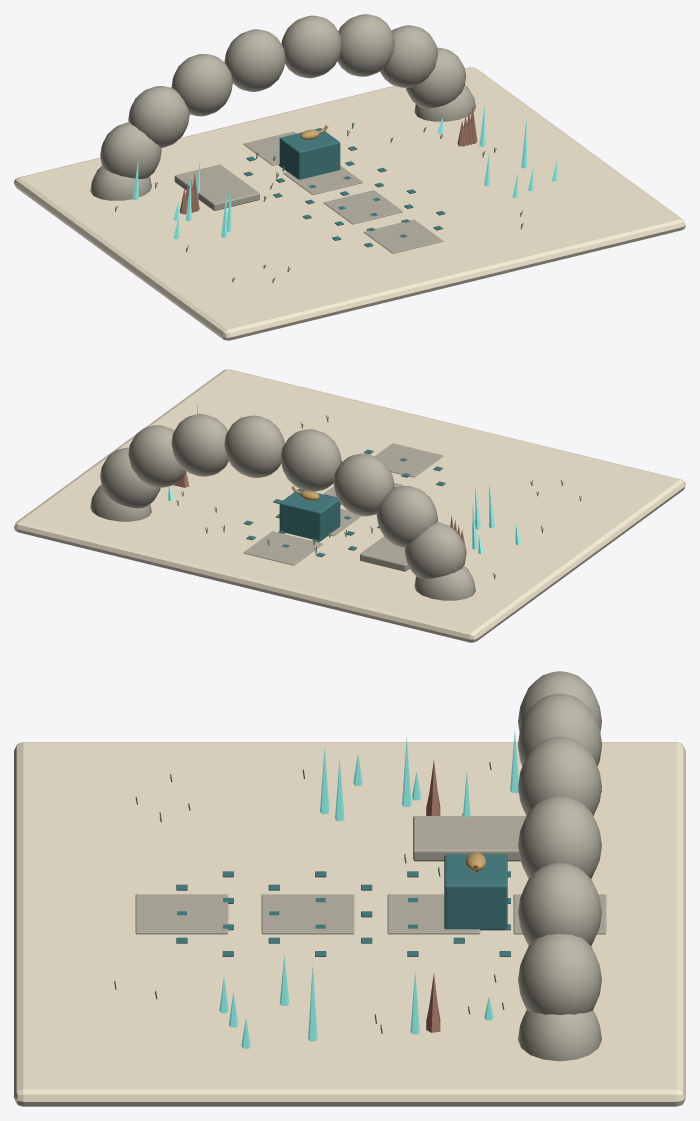
Rendered from ala_cave-BPJZ-EPG.glb.
3 views of the same model, one above another, from view 1: azimuth 30°, elevation 25°; view 2: azimuth 150°, elevation 25°; view 3: azimuth 270°, elevation 25° (orthographic). The views are drawn at different scales.
Visible parts, largest first — view 1: world_cream.044, world_stone.044, world_Story primary.019, FX_ramp_stone.044, world_Turquoise cave crystal, world_Story accent.019; view 2: world_cream.044, world_stone.044, world_Story primary.019, FX_ramp_stone.044, world_Turquoise cave crystal; view 3: world_cream.044, world_stone.044, world_Story primary.019, FX_ramp_stone.044, world_Turquoise cave crystal, world_Story accent.019.
Part boxes in pixels (bbox=[...]): world_cream.044: bbox=[14, 67, 685, 340]; world_stone.044: bbox=[90, 14, 475, 253]; world_Story primary.019: bbox=[243, 128, 445, 247]; FX_ramp_stone.044: bbox=[174, 164, 259, 210]; world_Turquoise cave crystal: bbox=[132, 106, 557, 239]; world_Story accent.019: bbox=[179, 106, 477, 214]; world_cream.044: bbox=[14, 369, 685, 642]; world_stone.044: bbox=[90, 414, 475, 600]; world_Story primary.019: bbox=[243, 449, 445, 557]; FX_ramp_stone.044: bbox=[360, 536, 409, 571]; world_Turquoise cave crystal: bbox=[168, 403, 521, 553]; world_cream.044: bbox=[14, 742, 685, 1106]; world_stone.044: bbox=[135, 671, 606, 1061]; world_Story primary.019: bbox=[176, 854, 510, 956]; FX_ramp_stone.044: bbox=[413, 816, 526, 861]; world_Turquoise cave crystal: bbox=[219, 731, 518, 1048]; world_Story accent.019: bbox=[426, 760, 440, 1032].
Bounding box in the file's own units: 20 × 6.34 × 16.
